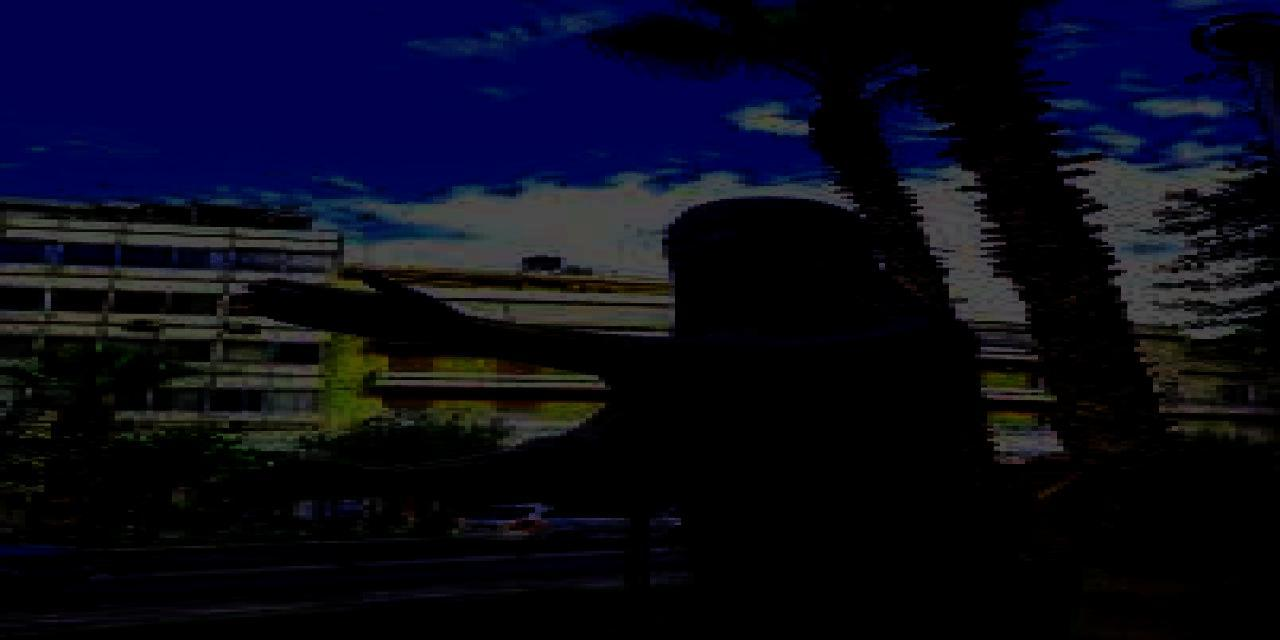Aretousa: (229, 193, 1001, 640)
